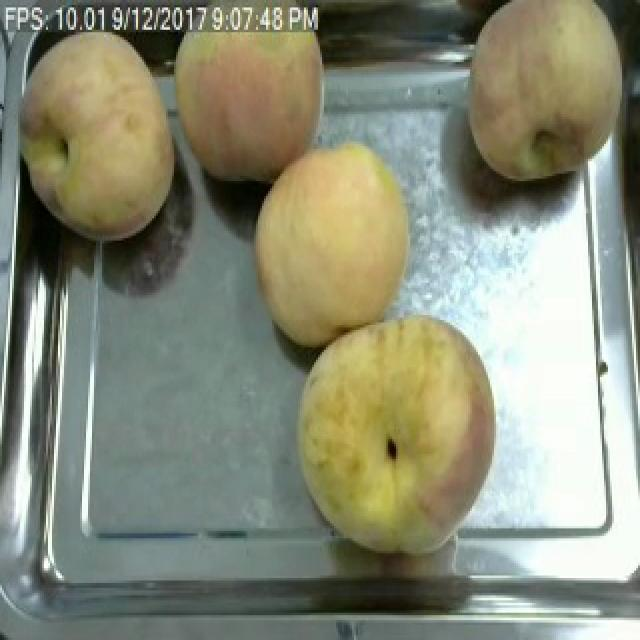Fruit: (288, 308, 508, 563), (242, 129, 420, 360), (16, 15, 188, 250), (456, 0, 638, 196), (162, 12, 334, 196)
